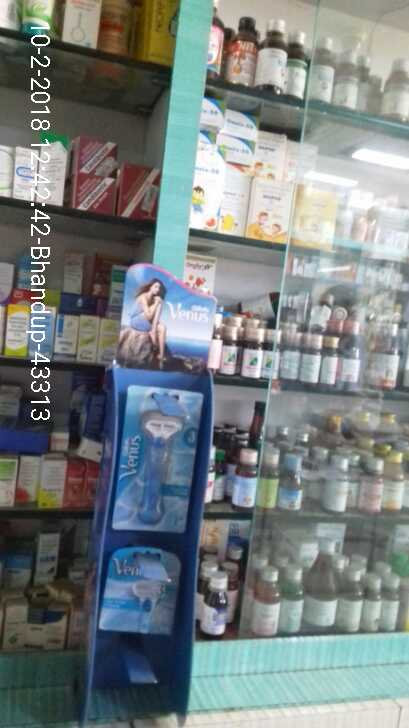beauty: (115, 379, 206, 541), (98, 548, 186, 636)
